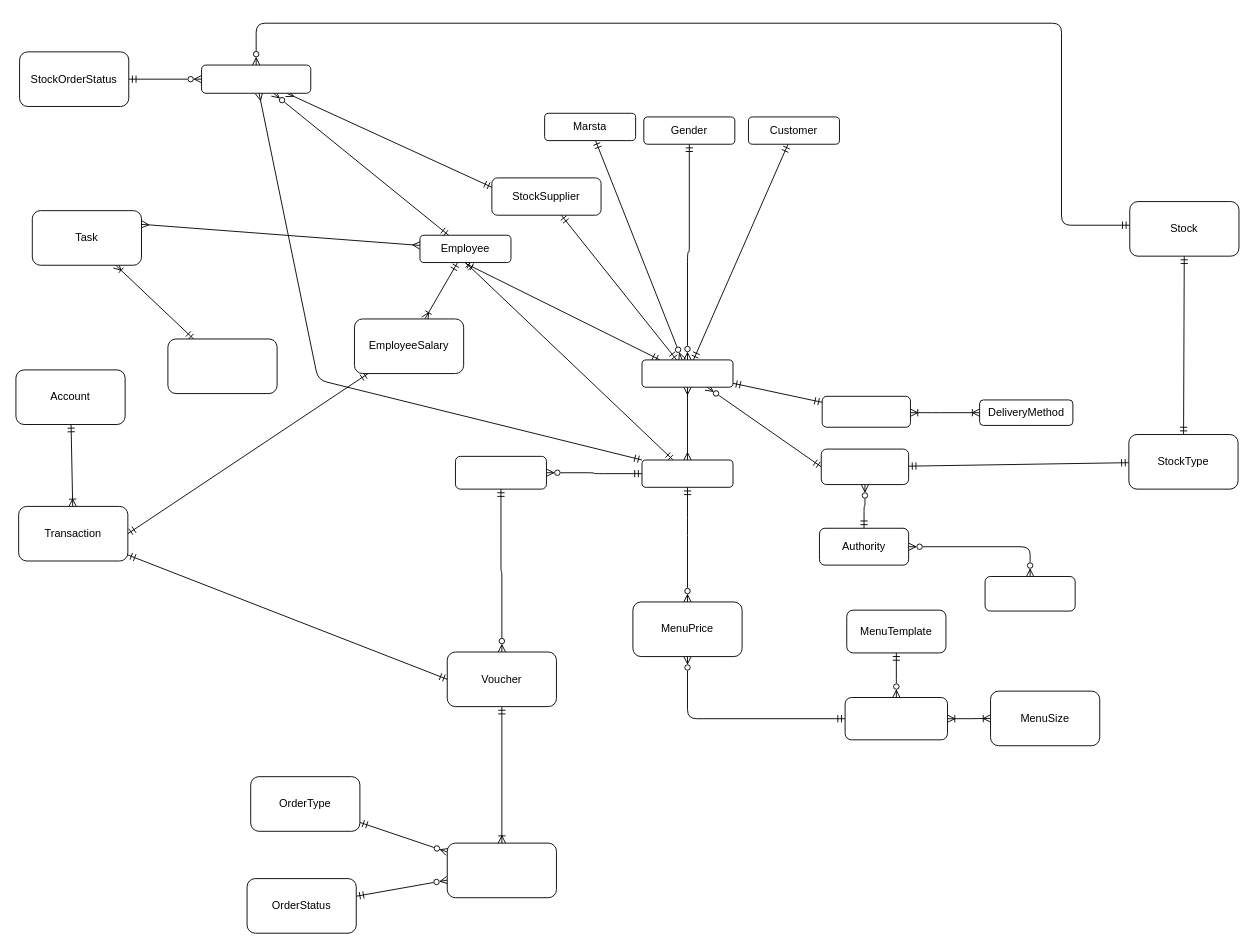
Image size: 1255x949. Some labels were removed from this diagram. Each missing label, with the centre of its shape:
Delivery: the point at 865,411
Menu: the point at 895,718
Order: the point at 501,870
Page: the point at 1029,593
Restruant: the point at 687,473
StockOrder: the point at 256,78
Table: the point at 500,472
TaskType: the point at 222,366
User: the point at 687,373
UserType: the point at 864,466
